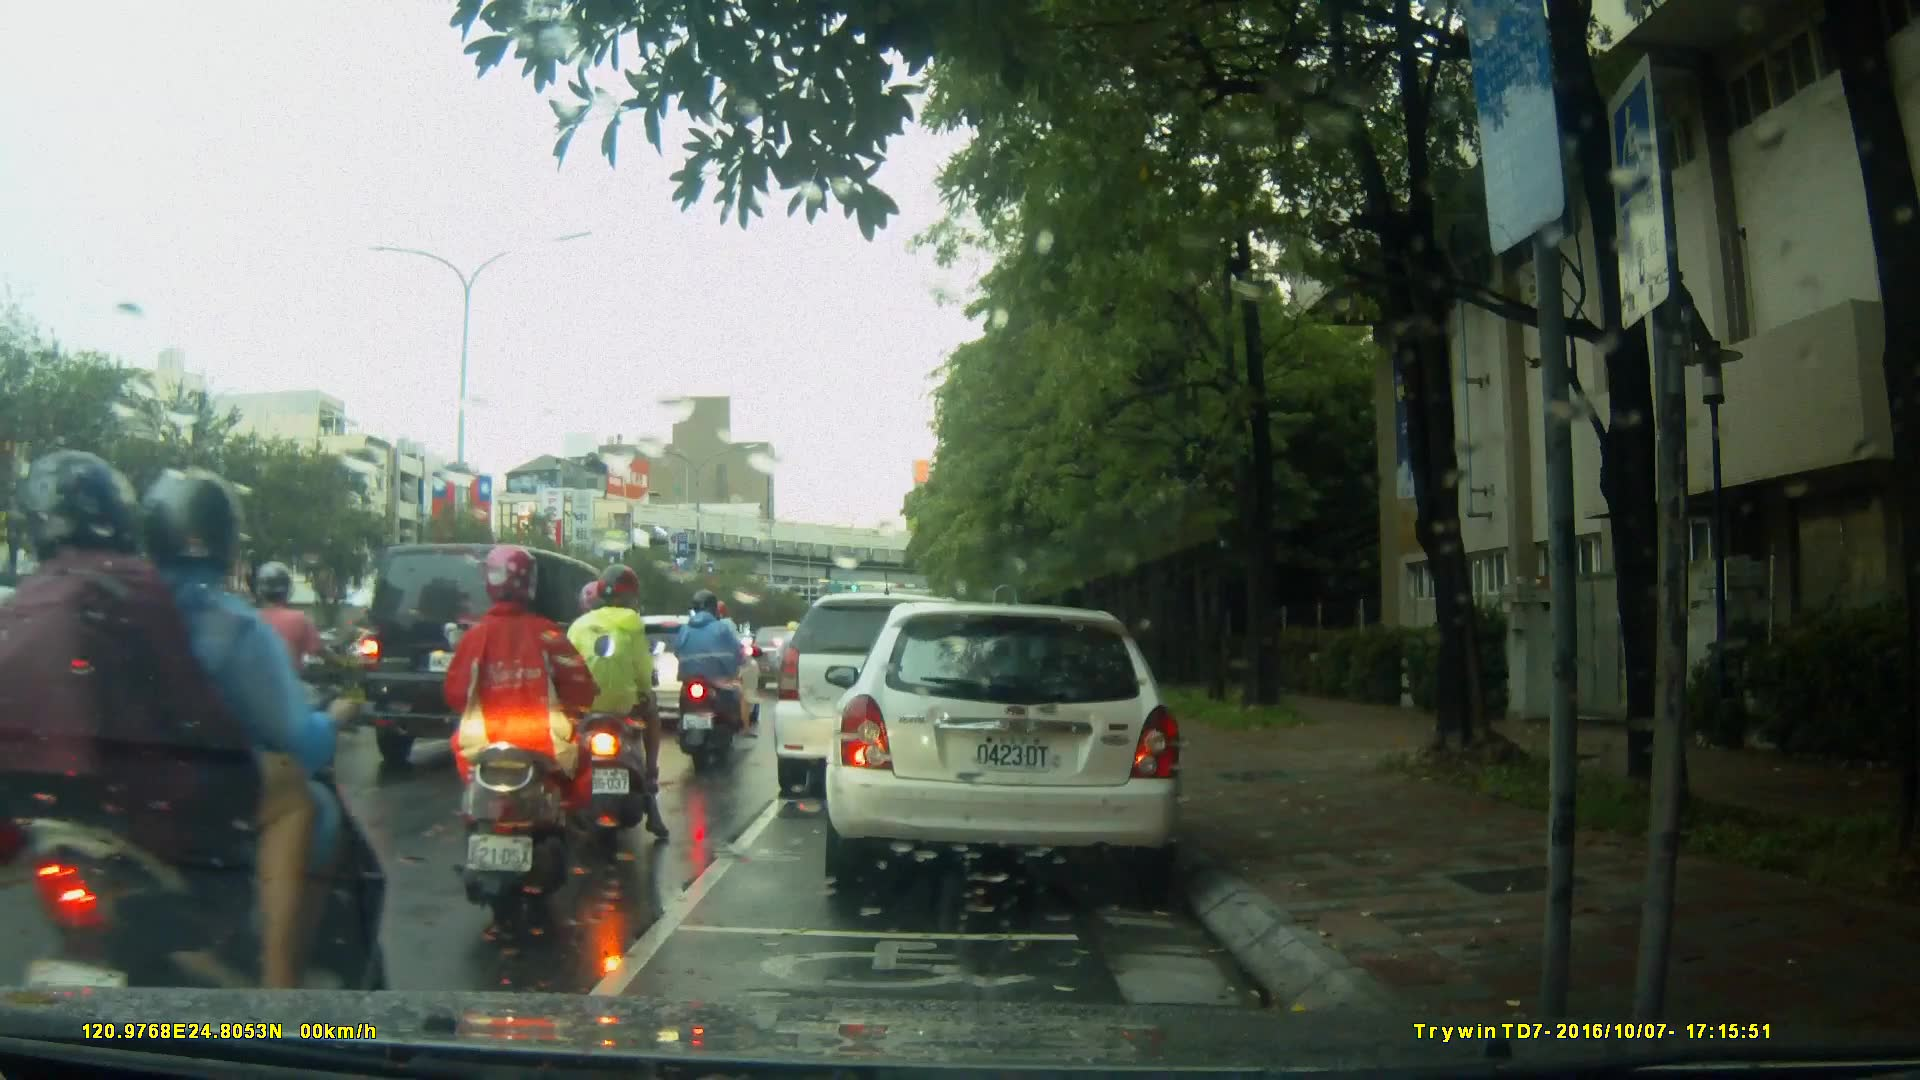rider: (1, 458, 378, 1045), (446, 542, 606, 935), (180, 559, 354, 825), (563, 566, 684, 848), (580, 594, 661, 818), (671, 591, 751, 763), (699, 600, 757, 739)
vehicle: (822, 604, 1188, 883), (358, 541, 646, 773), (774, 595, 995, 802)
